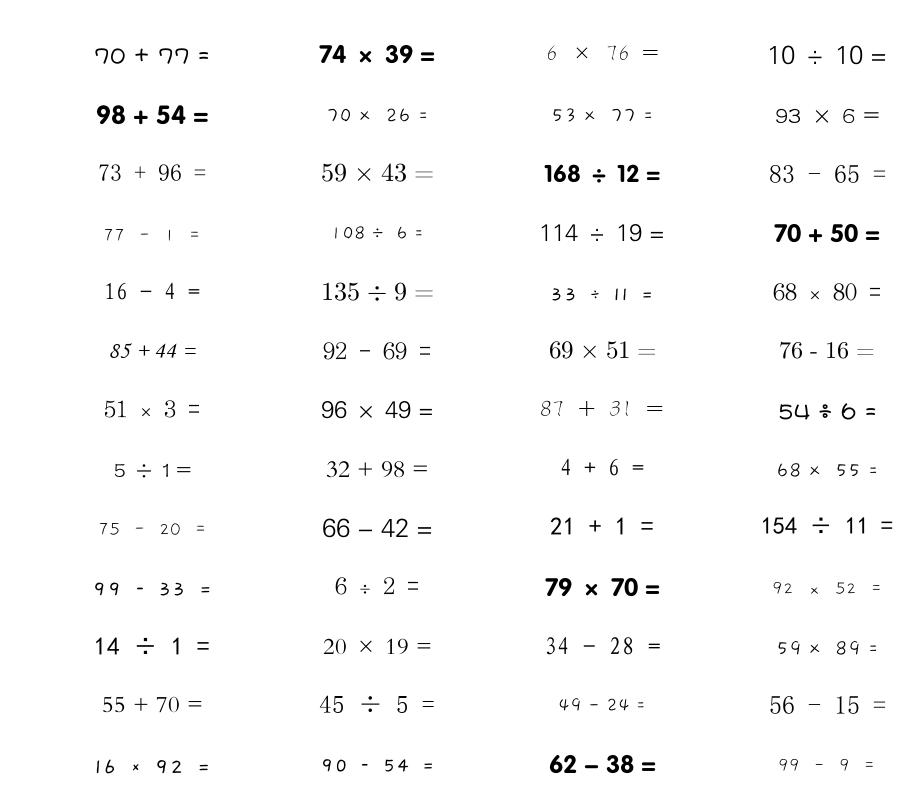MQ: (767, 45, 887, 65), (319, 44, 435, 64), (545, 577, 660, 597), (539, 224, 665, 242), (96, 105, 209, 125), (761, 517, 893, 534), (769, 695, 886, 714), (322, 518, 433, 538), (544, 164, 660, 183), (321, 163, 434, 182), (321, 282, 434, 301), (321, 400, 434, 419), (549, 754, 656, 774), (774, 223, 880, 243), (540, 400, 664, 417), (769, 165, 886, 183), (544, 637, 661, 655), (94, 637, 210, 655), (319, 695, 435, 713), (773, 283, 881, 301), (323, 342, 431, 360), (549, 341, 656, 359), (550, 517, 654, 535), (94, 48, 210, 64), (323, 638, 432, 655), (98, 164, 206, 181), (546, 45, 659, 61), (94, 759, 211, 774), (326, 461, 429, 478), (104, 282, 200, 300), (779, 341, 875, 359), (104, 400, 200, 418), (102, 696, 203, 713), (778, 403, 877, 420), (92, 582, 212, 596), (776, 640, 878, 656), (775, 108, 880, 123), (772, 581, 883, 595), (326, 108, 428, 123), (551, 108, 653, 123), (776, 463, 878, 478), (98, 522, 207, 536), (560, 458, 644, 476), (335, 577, 419, 595), (320, 759, 435, 772), (778, 758, 876, 772), (550, 288, 654, 301), (108, 343, 196, 358), (330, 226, 424, 240), (103, 229, 201, 242), (558, 698, 646, 712), (114, 463, 191, 478)
